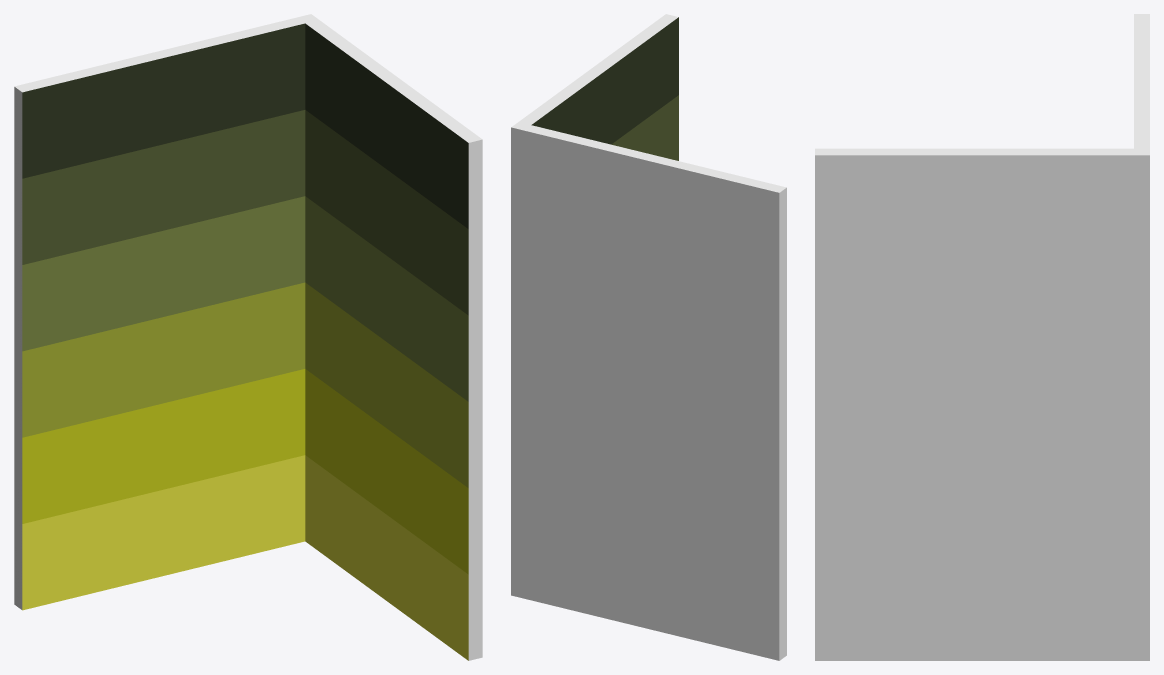
Rendered from Prop_WallCornor_03.fbx.
3 views of the same model, side by side, from view 1: azimuth 30°, elevation 25°; view 2: azimuth 150°, elevation 25°; view 3: azimuth 270°, elevation 25° (orthographic). The views are drawn at different scales.
Visible parts, largest first — view 1: Prop_WallCornor_03; view 2: Prop_WallCornor_03; view 3: Prop_WallCornor_03.
Boxes of the visible parts, x1,y1,x2,y2 form: Prop_WallCornor_03: [14, 14, 482, 660]; Prop_WallCornor_03: [511, 14, 786, 660]; Prop_WallCornor_03: [815, 14, 1149, 660].
Size of the model in its own units: 210 by 350 by 210.
